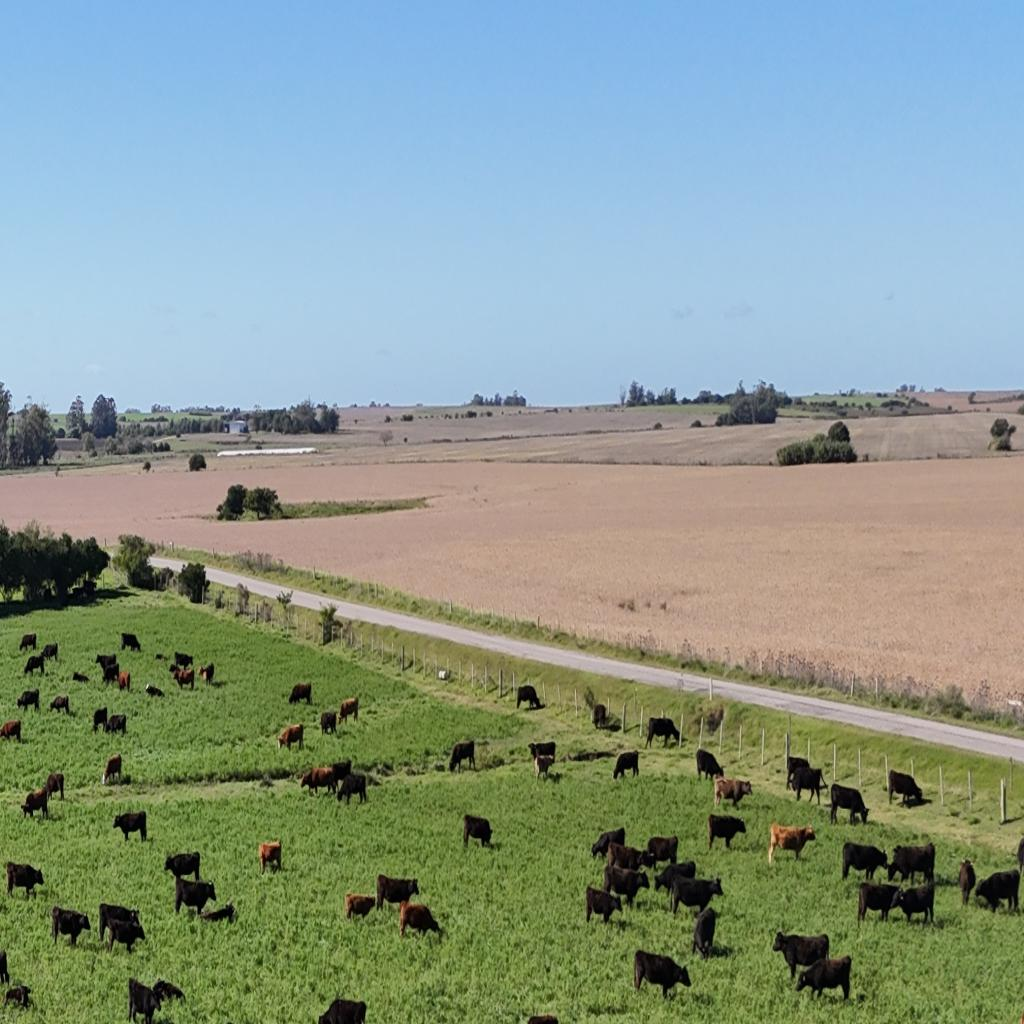cow: (772, 930, 830, 981), (633, 949, 691, 999), (796, 956, 853, 1003), (670, 872, 724, 918), (888, 842, 936, 886), (974, 870, 1020, 915), (603, 863, 649, 908), (892, 880, 936, 926), (857, 881, 904, 924), (842, 841, 888, 883), (768, 822, 814, 864), (99, 902, 141, 945), (174, 876, 218, 916), (830, 782, 870, 825), (50, 905, 90, 947), (400, 899, 442, 939), (127, 977, 161, 1024), (377, 874, 419, 911), (585, 886, 623, 926), (691, 904, 717, 962), (887, 768, 924, 808), (707, 814, 747, 851), (6, 860, 44, 898), (789, 765, 827, 803), (606, 840, 647, 874), (655, 862, 696, 896), (318, 996, 367, 1024), (713, 776, 753, 809), (590, 827, 624, 860), (646, 716, 680, 748), (336, 773, 368, 807), (164, 851, 200, 881), (112, 810, 146, 841), (646, 835, 679, 866), (462, 814, 492, 848), (300, 767, 334, 797), (696, 748, 724, 784), (152, 979, 186, 1007), (958, 858, 976, 908), (344, 892, 376, 920), (449, 740, 475, 774), (22, 788, 49, 820), (258, 840, 282, 875), (200, 902, 236, 924), (516, 684, 544, 712), (612, 751, 638, 781), (2, 984, 30, 1011), (327, 758, 351, 789), (278, 724, 304, 752), (337, 696, 359, 726), (529, 740, 556, 764), (101, 754, 122, 784), (170, 666, 194, 691), (534, 754, 555, 782), (288, 682, 312, 706), (16, 689, 40, 713), (46, 771, 64, 802), (0, 718, 22, 743), (829, 782, 846, 814), (23, 654, 45, 678), (1010, 834, 1022, 876), (120, 631, 142, 653), (106, 713, 127, 736), (320, 711, 338, 737), (95, 654, 117, 674), (49, 695, 70, 715), (92, 707, 108, 733), (102, 664, 120, 686), (174, 652, 194, 671), (0, 948, 10, 986), (41, 642, 59, 663), (526, 1013, 559, 1024), (197, 663, 213, 685), (592, 704, 606, 729), (19, 633, 37, 652), (145, 682, 163, 698), (118, 670, 130, 692), (82, 578, 96, 595), (72, 672, 89, 684), (527, 742, 537, 760), (169, 663, 179, 676), (155, 653, 169, 660)
